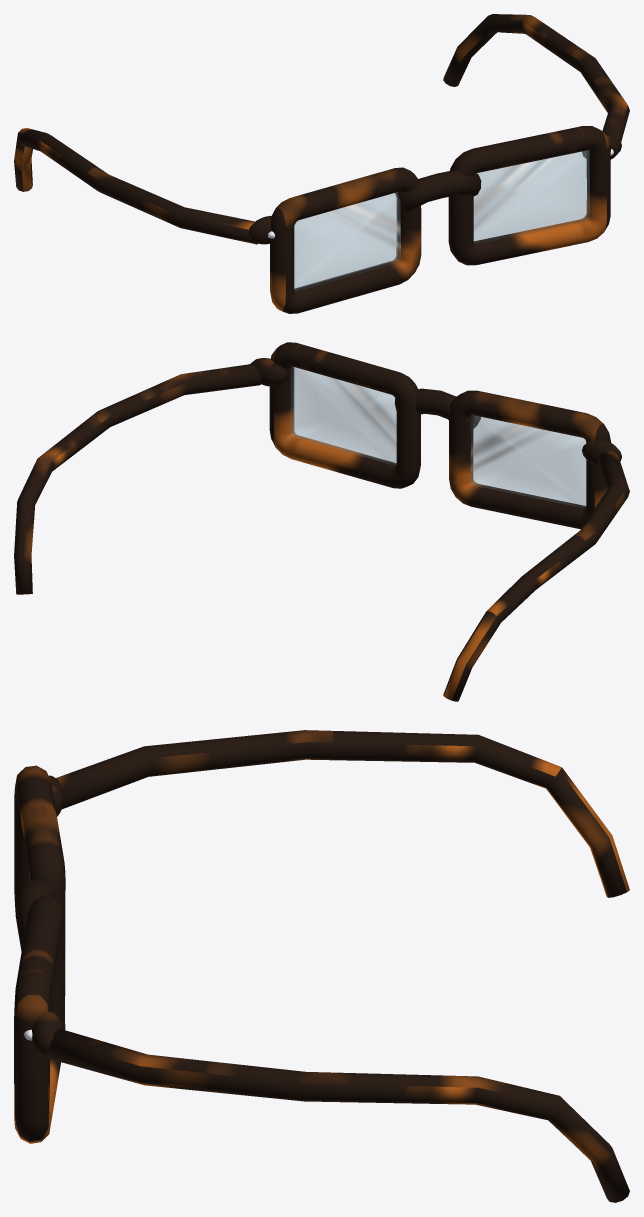
The model's file is eye_accountant.glb.
3 views of the same model, one above another, from view 1: azimuth 30°, elevation 25°; view 2: azimuth 150°, elevation 25°; view 3: azimuth 270°, elevation 25° (orthographic). The views are drawn at different scales.
Visible parts, largest first — view 1: eye_accountant; view 2: eye_accountant; view 3: eye_accountant.
Boxes of the visible parts, left/top/right/bottom form: eye_accountant: left=14, top=14, right=629, bottom=313; eye_accountant: left=14, top=342, right=629, bottom=701; eye_accountant: left=14, top=730, right=629, bottom=1202.
Bounding box in the file's own units: 0.1953 × 0.0454 × 0.1435.
Materials: 3 (2 with a texture image).
